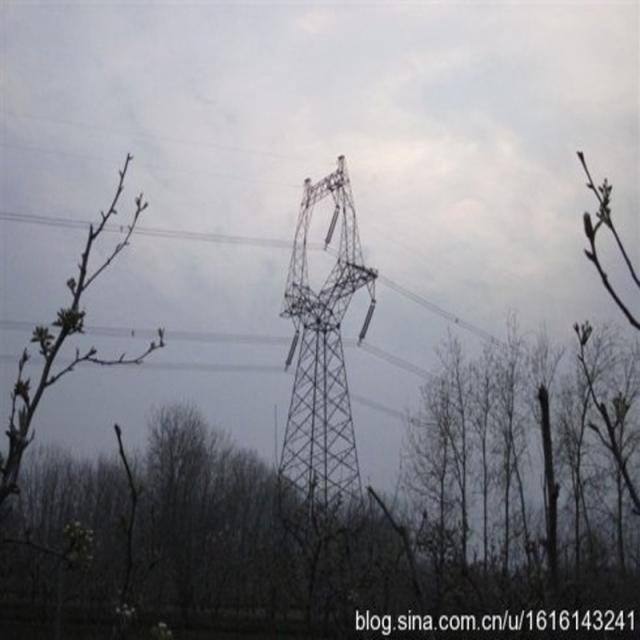non-critical vegetation: (282, 160, 360, 506)
